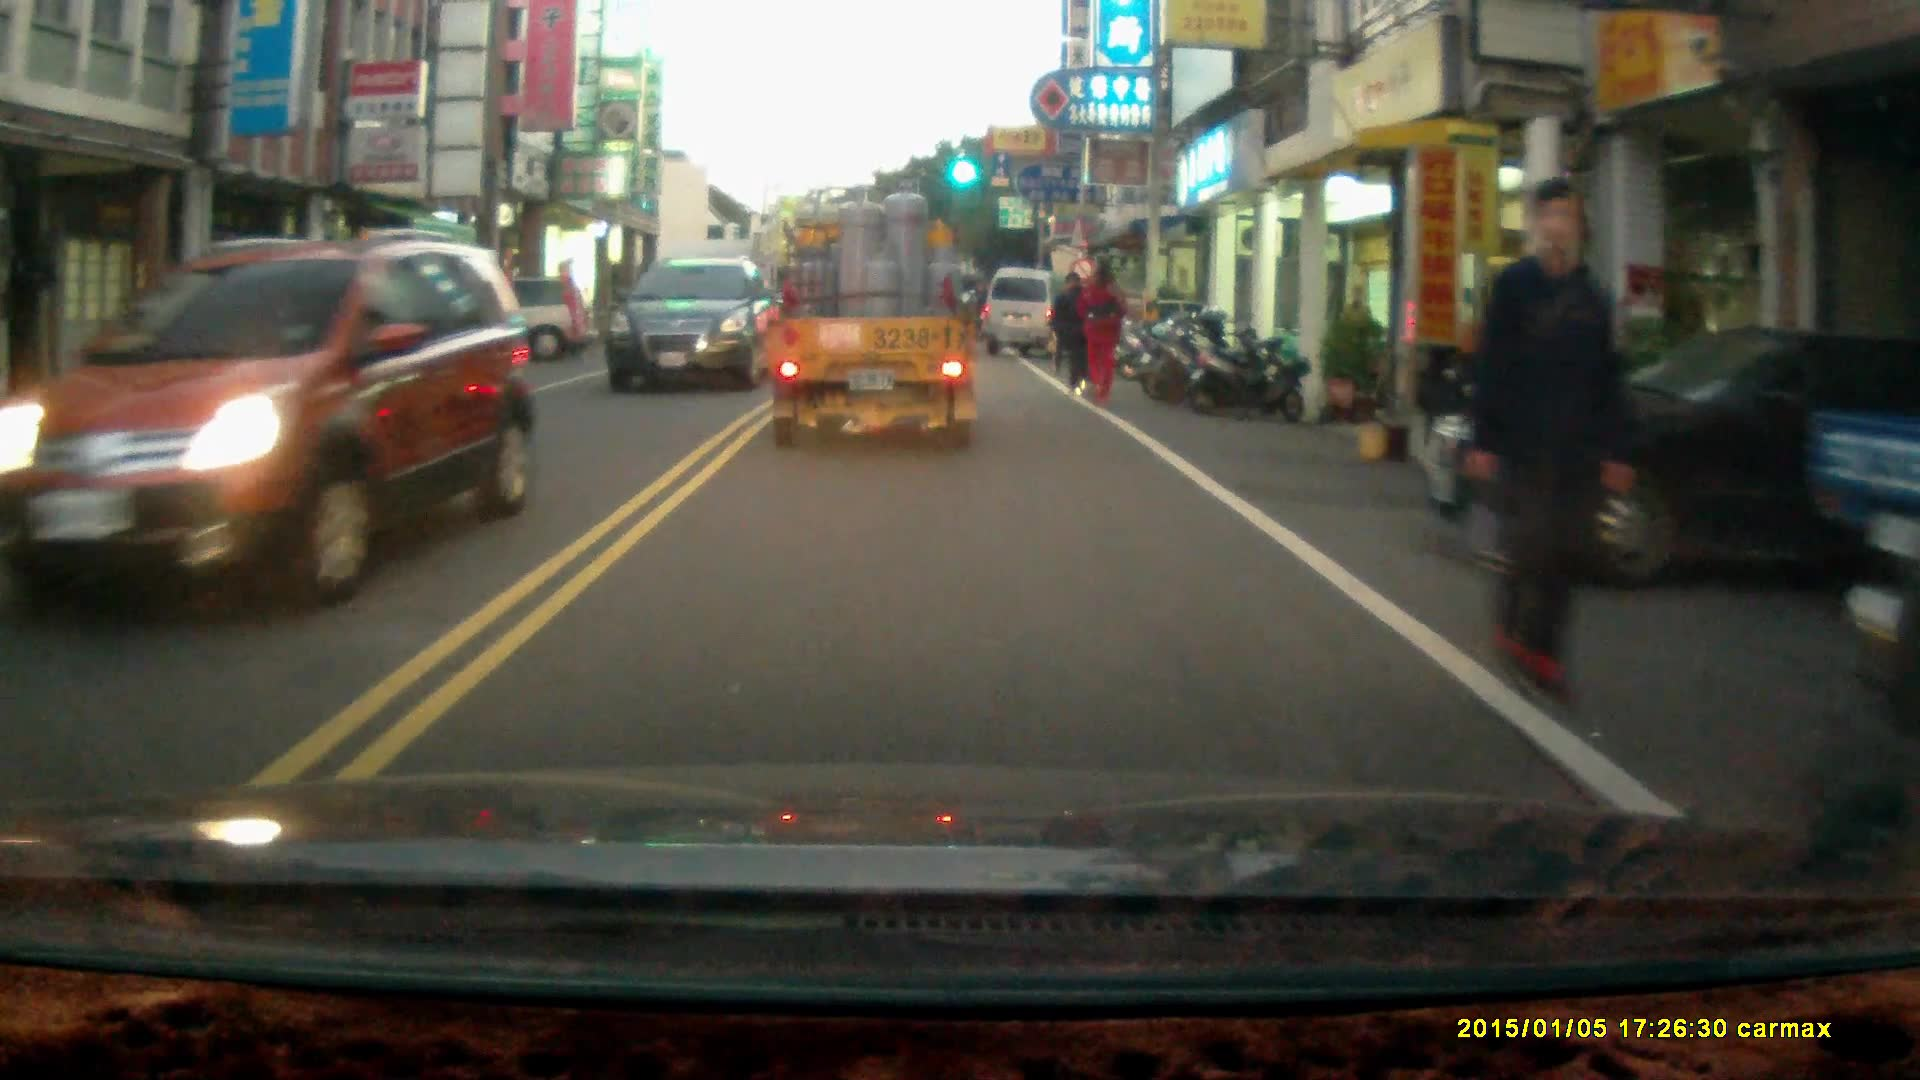pedestrian: (1461, 169, 1630, 712), (1081, 262, 1122, 405), (1056, 271, 1095, 396), (1336, 281, 1371, 372)
vehicle: (33, 227, 511, 635), (1414, 317, 1920, 592), (763, 189, 987, 472), (607, 258, 779, 397), (985, 263, 1071, 355)
